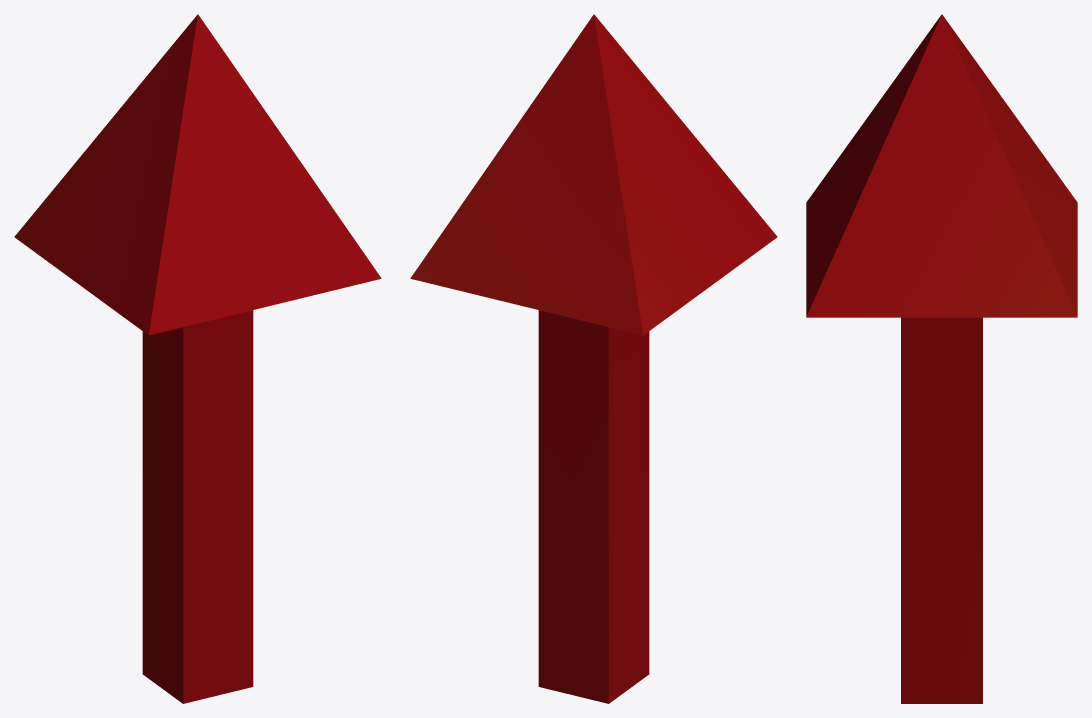
The model's file is arrow-x.fbx.
3 views of the same model, side by side, from view 1: azimuth 30°, elevation 25°; view 2: azimuth 150°, elevation 25°; view 3: azimuth 270°, elevation 25° (orthographic).
Visible parts, largest first — view 1: Cube; view 2: Cube; view 3: Cube.
Part boxes in pixels (<box>): Cube: <box>14,14,381,703</box>; Cube: <box>410,14,777,703</box>; Cube: <box>806,14,1077,703</box>.
Bounding box in the file's own units: 200 × 547 × 200.
